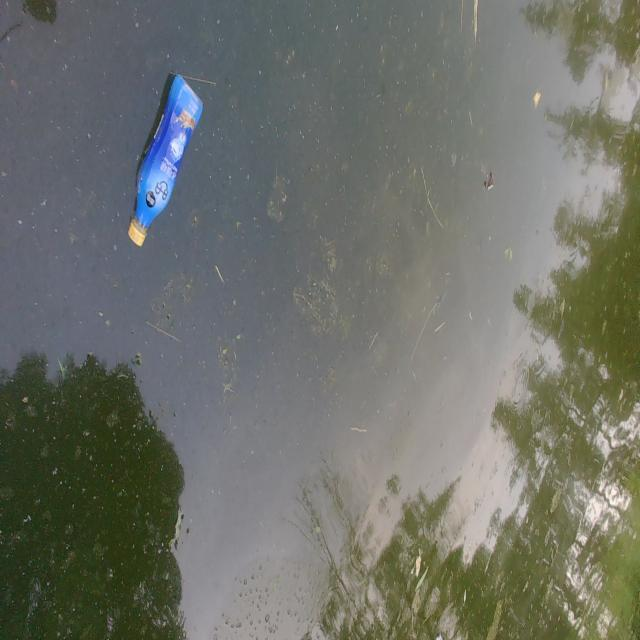bottle: (126, 47, 218, 258)
